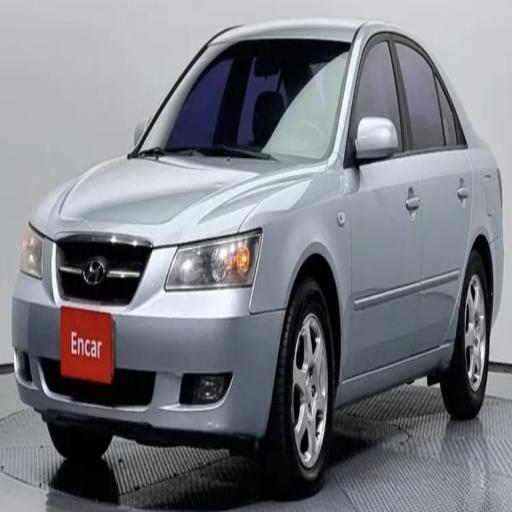normal: (7, 13, 506, 473)
